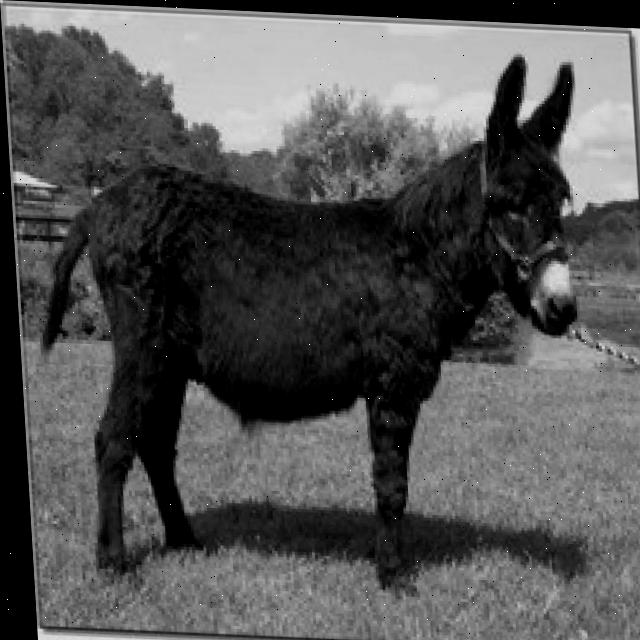Donkey: (19, 30, 606, 606)
